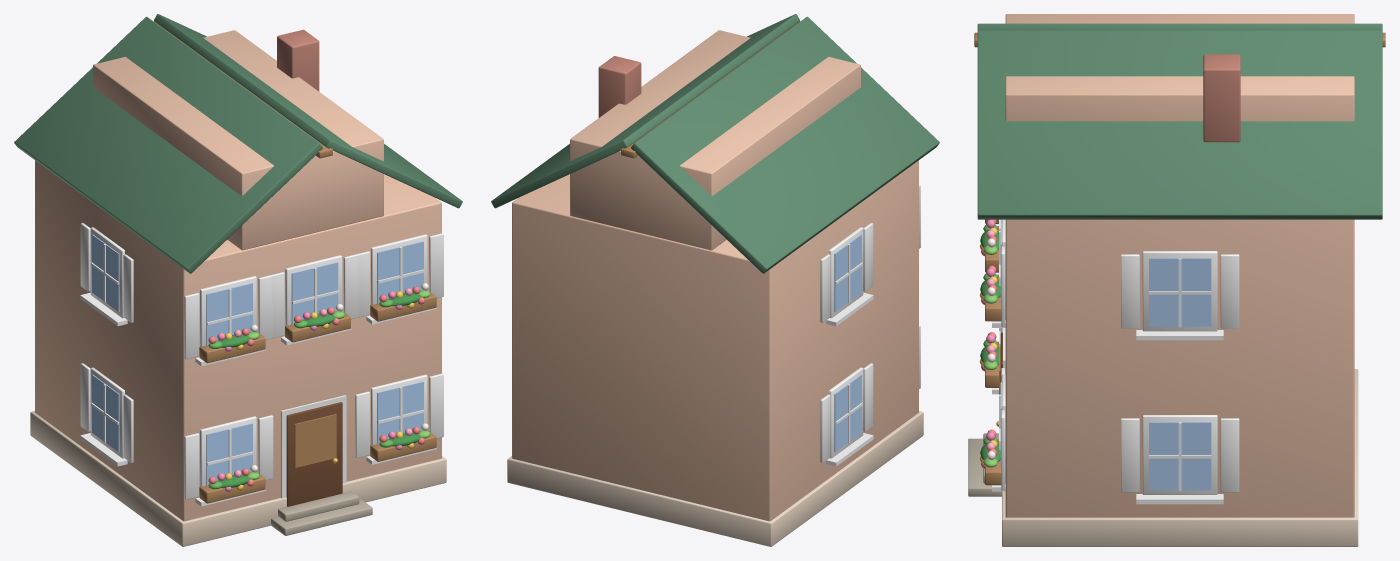
Rendered from house_salmon.glb.
3 views of the same model, side by side, from view 1: azimuth 30°, elevation 25°; view 2: azimuth 150°, elevation 25°; view 3: azimuth 270°, elevation 25° (orthographic). The views are drawn at different scales.
Parts seen in each view (by area): view 1: house_salmon; view 2: house_salmon; view 3: house_salmon.
Part boxes in pixels (x1,y1,x2,y2): house_salmon: (14,14,462,546); house_salmon: (491,14,939,546); house_salmon: (968,14,1385,546).
Size of the model in its own units: 6.04 by 8.05 by 6.7.
